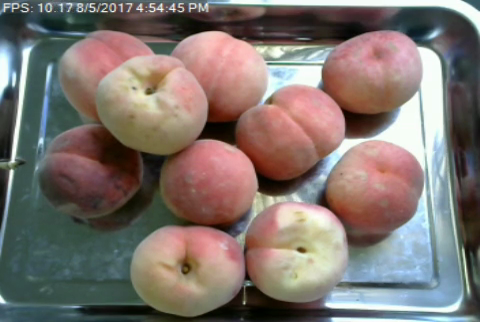Peach: (129, 223, 245, 319), (242, 201, 350, 303), (99, 54, 208, 155), (235, 85, 345, 182), (325, 138, 424, 237), (38, 122, 139, 216), (58, 27, 158, 121), (170, 30, 266, 121), (321, 29, 422, 115), (160, 138, 258, 226)
